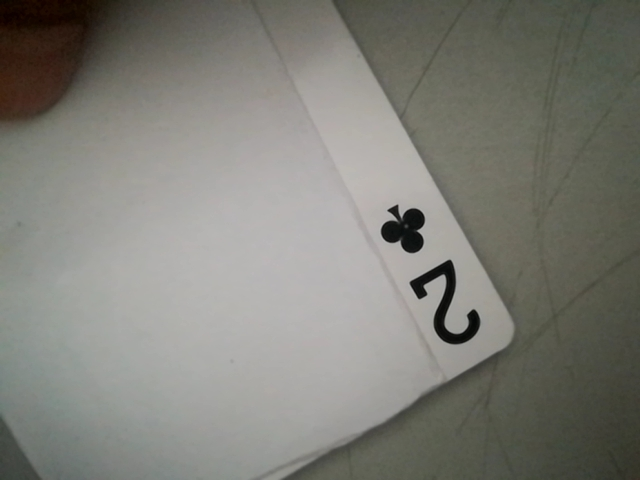mh 2: (369, 194, 492, 366)
